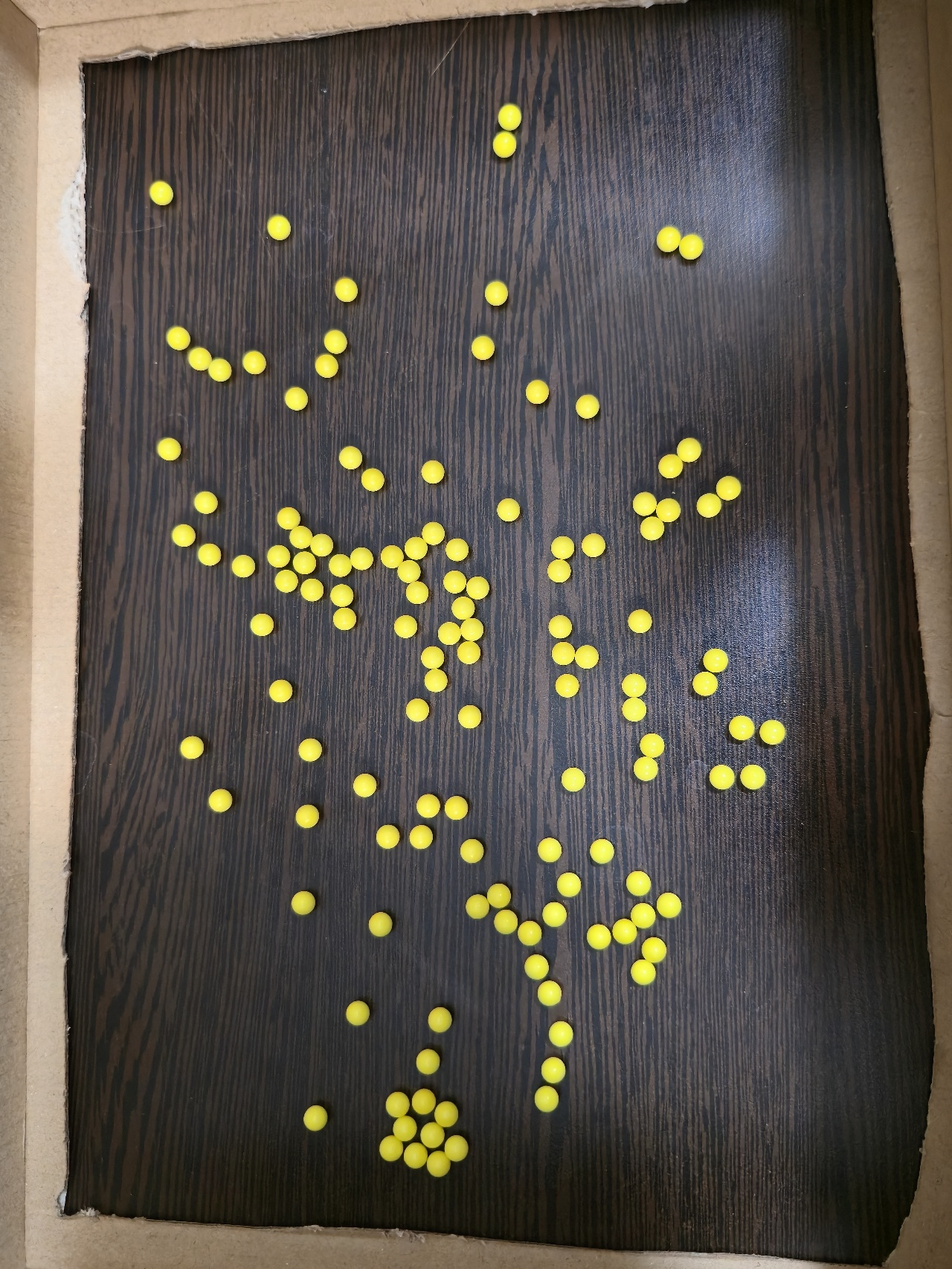yellow_bead: (766, 726, 779, 739), (541, 1092, 553, 1106), (715, 771, 729, 783), (646, 739, 658, 753), (663, 232, 675, 246), (309, 1112, 321, 1125), (547, 1064, 559, 1077), (555, 1028, 567, 1041), (637, 966, 650, 978), (530, 962, 543, 974), (663, 899, 675, 912), (632, 878, 645, 890), (640, 762, 652, 775), (628, 703, 640, 716), (699, 678, 712, 690), (662, 504, 675, 516), (722, 482, 735, 494), (273, 221, 285, 234), (193, 353, 207, 364), (422, 1056, 434, 1068), (593, 931, 605, 943), (637, 910, 649, 922), (548, 909, 560, 921), (563, 879, 575, 891), (596, 846, 608, 858), (567, 774, 579, 786), (747, 771, 759, 783), (628, 680, 640, 692), (646, 522, 658, 534), (683, 444, 695, 456), (582, 401, 594, 413), (290, 393, 302, 405), (213, 364, 225, 376), (477, 341, 489, 353), (155, 187, 167, 199), (704, 499, 715, 512), (491, 286, 501, 300), (686, 240, 696, 254), (385, 1143, 396, 1155), (392, 1099, 403, 1111), (435, 1015, 446, 1027), (544, 988, 555, 1000), (524, 928, 536, 939), (501, 916, 512, 928), (472, 901, 483, 913), (493, 890, 504, 902), (544, 845, 556, 856), (581, 652, 593, 663), (457, 603, 469, 614), (472, 582, 483, 594), (280, 576, 292, 587), (335, 560, 347, 571), (639, 499, 651, 510), (665, 461, 677, 472), (321, 360, 332, 372), (504, 112, 515, 124), (466, 846, 477, 857), (416, 832, 427, 843), (382, 832, 393, 843), (422, 801, 433, 812), (305, 745, 316, 756), (562, 681, 573, 692), (427, 653, 438, 664), (466, 624, 477, 635), (449, 577, 460, 588), (403, 566, 414, 577), (554, 565, 565, 576), (356, 553, 367, 564), (588, 540, 599, 551), (451, 1143, 461, 1155), (376, 919, 386, 931), (214, 796, 226, 806), (186, 743, 198, 753), (444, 629, 456, 639), (634, 617, 646, 627), (451, 545, 463, 555), (315, 540, 327, 550), (295, 533, 307, 543), (330, 335, 340, 347), (735, 726, 749, 734), (353, 1008, 363, 1019), (298, 898, 309, 908), (359, 781, 370, 791), (464, 712, 475, 722), (431, 675, 441, 686), (558, 649, 569, 659), (555, 622, 566, 632), (400, 622, 411, 632), (336, 591, 347, 601), (306, 585, 317, 595), (299, 557, 309, 568), (557, 543, 568, 553), (428, 529, 439, 539), (199, 498, 210, 508), (367, 475, 378, 485), (345, 453, 356, 463), (163, 444, 174, 454), (341, 285, 351, 296), (427, 1131, 437, 1141), (302, 812, 312, 822), (412, 706, 422, 716), (464, 648, 474, 658), (257, 620, 267, 630), (339, 614, 349, 624), (412, 588, 422, 598), (273, 552, 283, 562), (203, 550, 213, 560), (411, 543, 421, 553), (178, 531, 188, 541), (428, 468, 438, 478), (532, 387, 542, 397), (451, 803, 460, 814), (275, 687, 286, 696), (283, 515, 294, 524), (503, 506, 514, 515), (238, 562, 248, 571), (387, 553, 397, 562), (652, 946, 660, 957), (248, 359, 259, 367), (172, 332, 179, 344), (440, 1108, 448, 1116), (433, 1162, 440, 1171), (399, 1125, 405, 1135), (620, 929, 631, 934), (410, 1150, 414, 1161), (710, 655, 714, 664), (418, 1099, 423, 1104), (715, 665, 720, 666)
